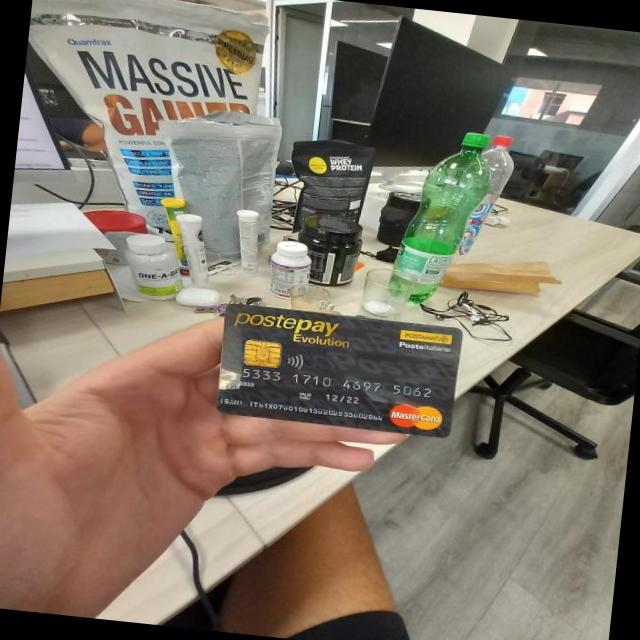card: (212, 300, 468, 437)
